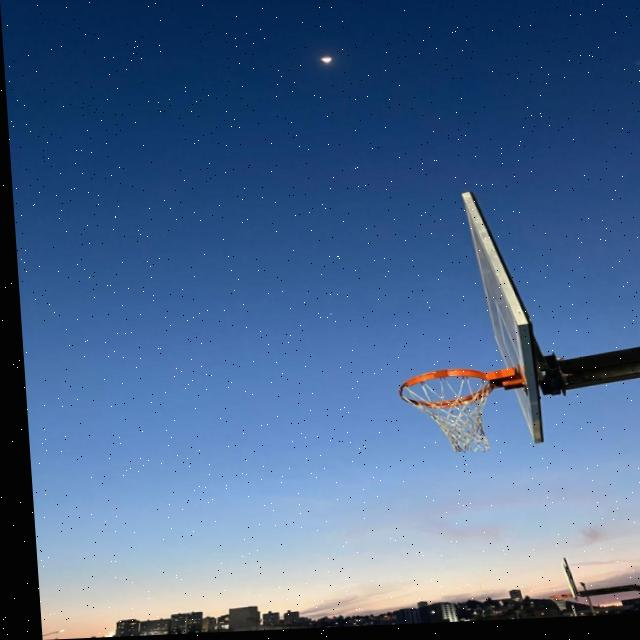hoop: (386, 369, 522, 463)
